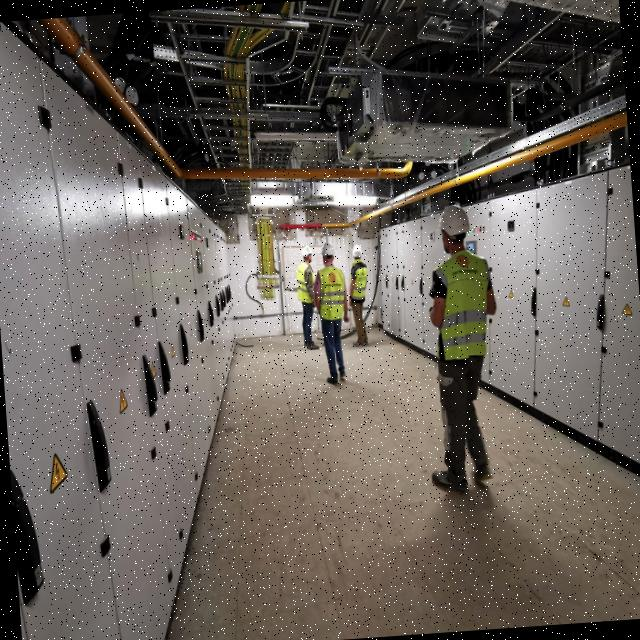Helmet: (439, 204, 474, 246), (321, 243, 337, 267), (302, 246, 314, 265), (352, 244, 364, 262)
Jacket: (434, 242, 495, 365), (317, 263, 346, 321), (297, 261, 317, 307), (349, 260, 369, 302)
